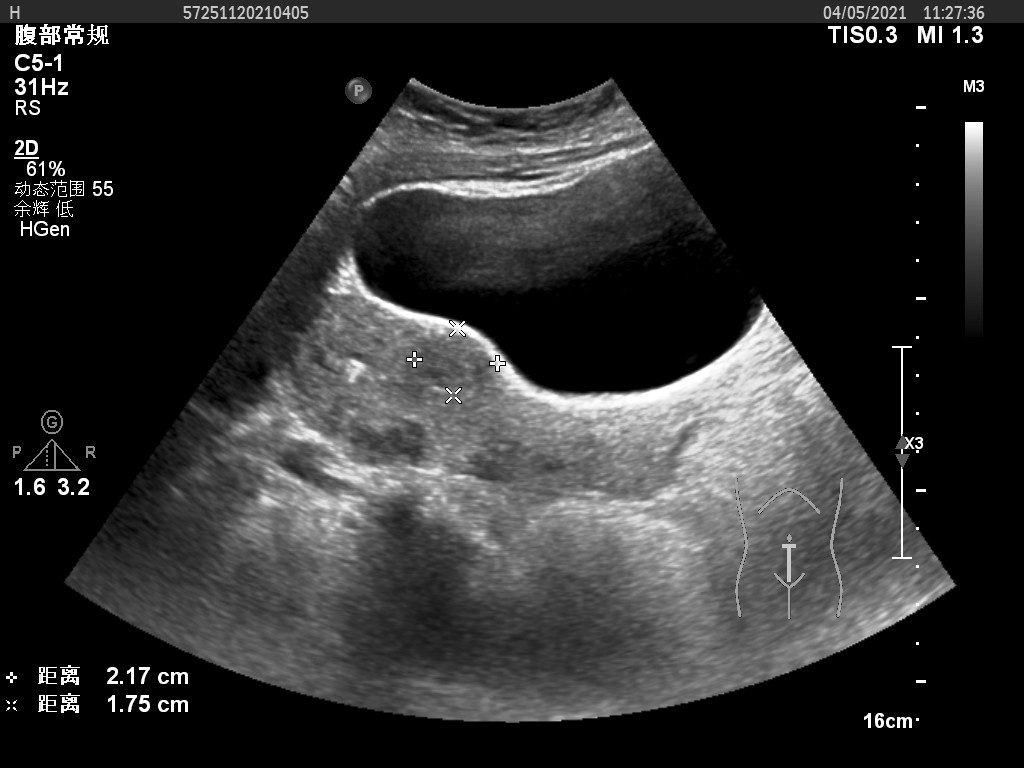肌瘤: (420, 336, 490, 396)
